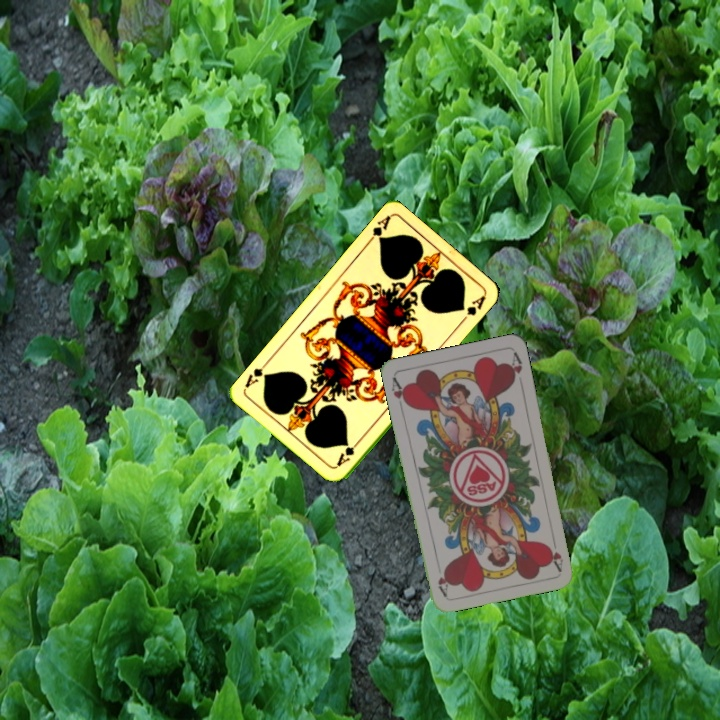GA: (332, 435, 363, 469), (363, 212, 393, 247)
HA: (387, 373, 411, 410), (544, 533, 565, 573)
